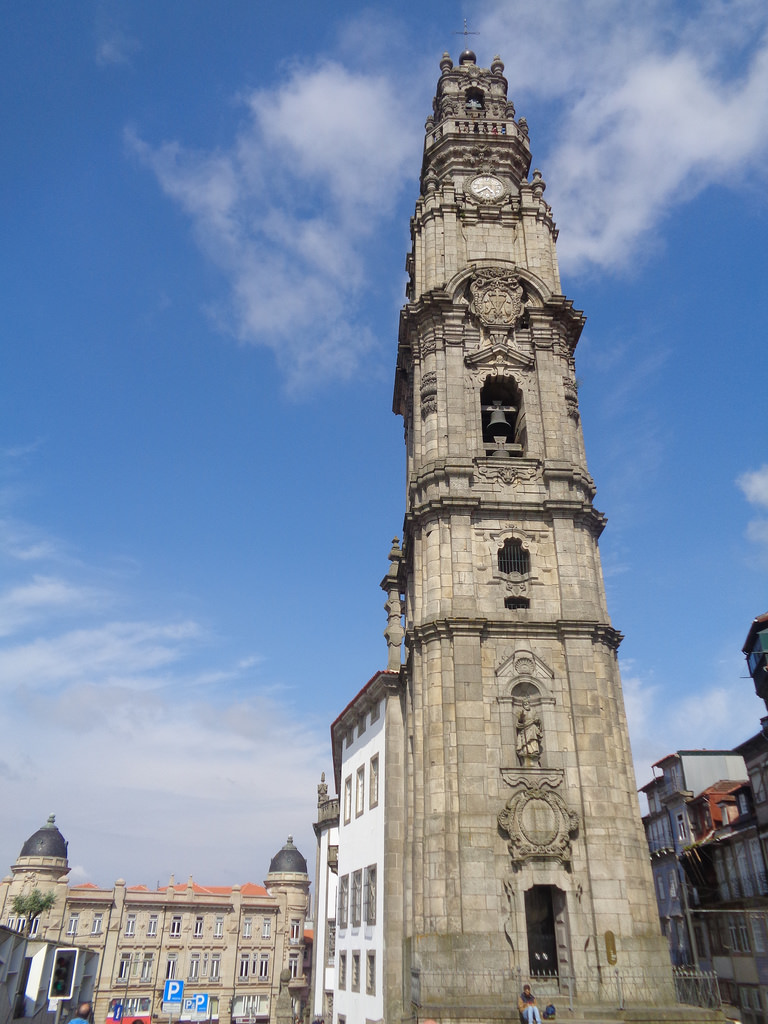clerigos: (378, 16, 676, 999)
